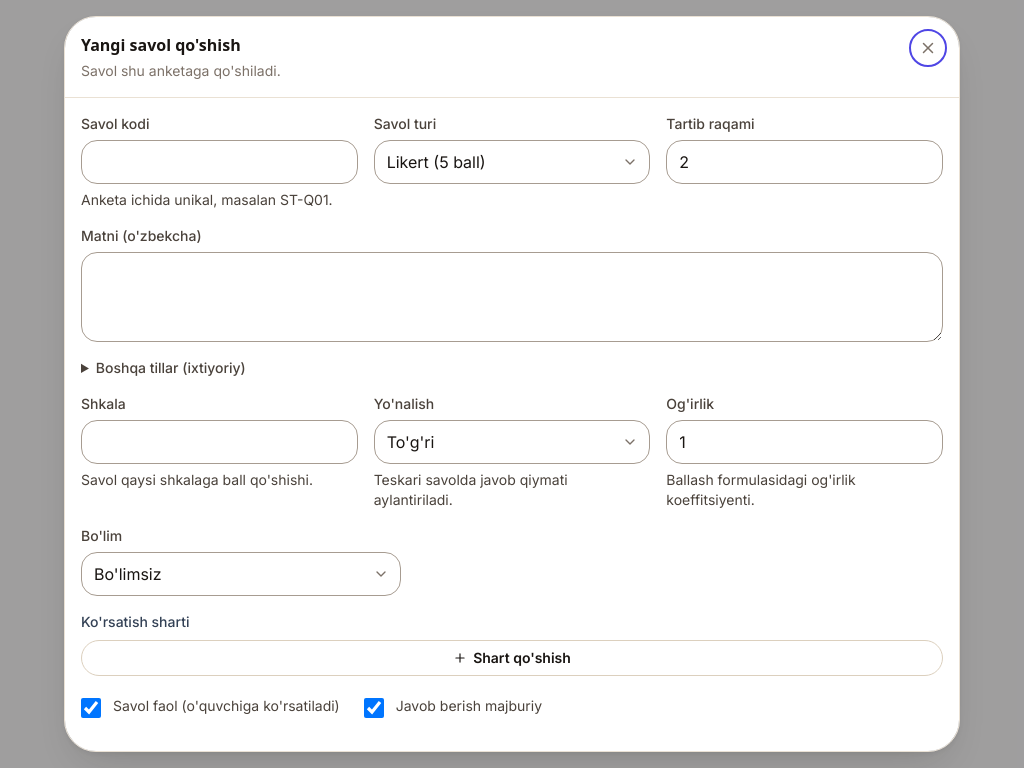
Test: QuestionEditorDialog — turga qarab maydonlar › Survey anketada ShortText tanlansa placeholder/maxLength ko‘rinadi, shkala/yo‘nalish/og‘irlik yashiriladi
The width and height of the screenshot is (1024, 768).
Select "Qisqa matn" in the dropdown labelled "Savol turi" at coordinates (512, 162), box [374, 140, 650, 184]
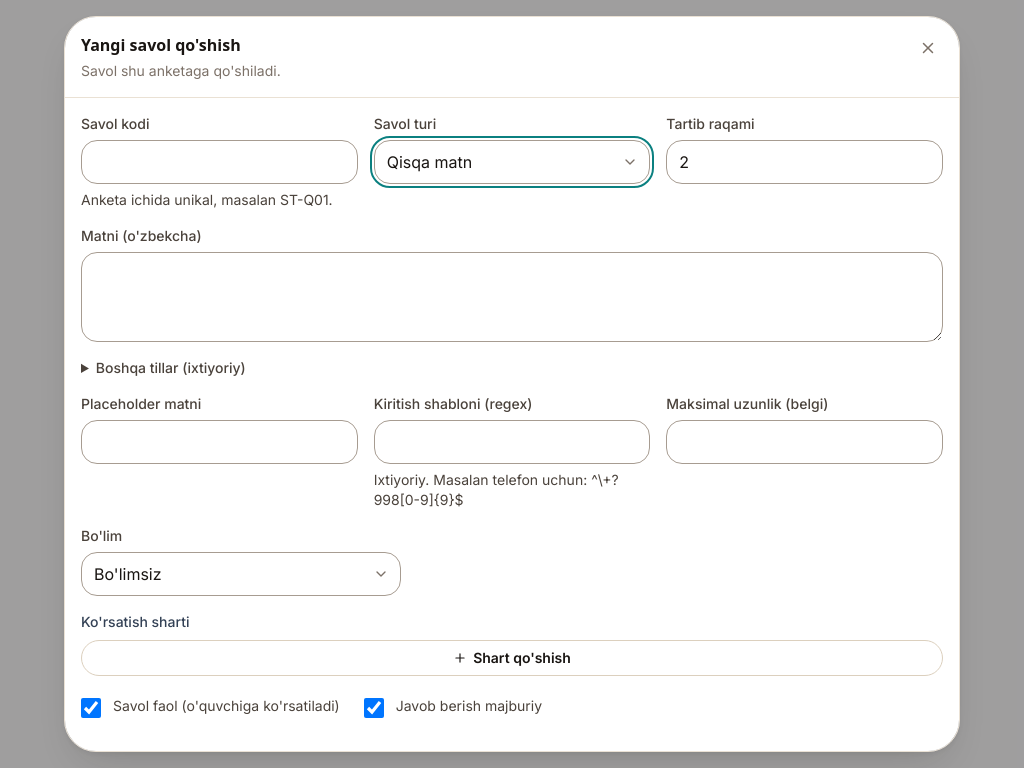
Result: the number field labelled "Maksimal uzunlik (belgi)" is shown at [666, 420, 943, 464]
Result: the field labelled "Kiritish shabloni (regex)" is shown at [374, 420, 650, 464]
Result: the label labelled "Shkala" is gone
